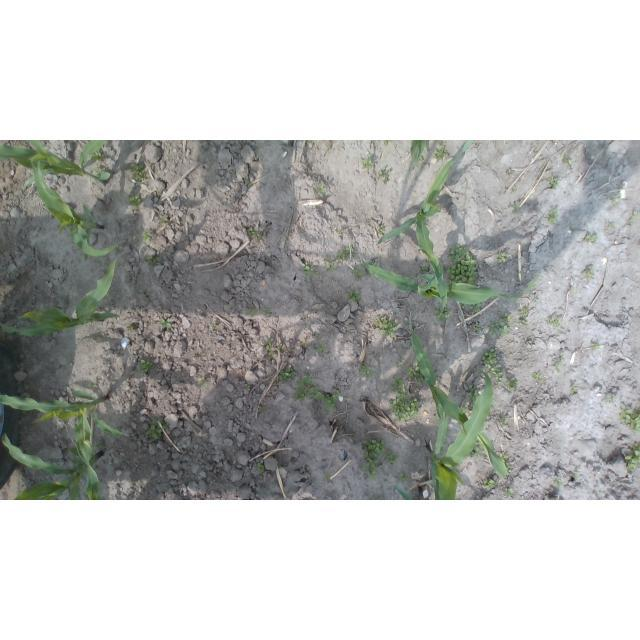Maize: (376, 141, 476, 318), (406, 311, 510, 479), (0, 388, 124, 499), (1, 253, 116, 335), (27, 161, 119, 260), (427, 370, 493, 500), (364, 260, 539, 305), (0, 433, 106, 500), (1, 140, 112, 192), (408, 141, 428, 168), (393, 485, 414, 500)
Weeds: (389, 376, 420, 422), (444, 244, 477, 287), (294, 373, 325, 403), (363, 440, 385, 479), (323, 246, 354, 273), (619, 403, 640, 435), (375, 316, 397, 339), (145, 419, 169, 440), (128, 160, 148, 182), (625, 443, 640, 472), (488, 320, 512, 338), (323, 389, 342, 411), (486, 364, 504, 386), (408, 366, 425, 383), (279, 366, 296, 383), (465, 385, 480, 404), (480, 348, 497, 364), (466, 440, 482, 456), (433, 307, 451, 321), (301, 262, 316, 277), (546, 209, 559, 226), (433, 146, 448, 160), (359, 156, 373, 171), (90, 150, 105, 164), (552, 354, 563, 373), (376, 169, 390, 183), (358, 363, 372, 377), (313, 183, 327, 197), (386, 451, 401, 464), (128, 193, 141, 207), (140, 359, 153, 373), (348, 288, 361, 302), (548, 316, 563, 328), (314, 344, 329, 356), (247, 227, 265, 237), (147, 255, 164, 265), (351, 266, 363, 280), (160, 319, 174, 330), (263, 337, 273, 352), (482, 478, 494, 490), (71, 457, 83, 468), (508, 377, 519, 389), (142, 231, 153, 242), (461, 404, 471, 416), (585, 234, 598, 242), (496, 252, 506, 262), (470, 302, 480, 312), (197, 377, 207, 387), (586, 268, 595, 279), (532, 372, 543, 381), (500, 452, 509, 463), (550, 176, 558, 188), (562, 156, 572, 165), (503, 313, 513, 322), (400, 474, 409, 484), (518, 308, 529, 316), (418, 152, 425, 164), (258, 460, 265, 472), (93, 169, 105, 176), (246, 309, 256, 317), (514, 202, 521, 213), (422, 264, 429, 275), (607, 220, 616, 228), (473, 323, 481, 332), (360, 260, 368, 269), (268, 352, 276, 361), (501, 417, 508, 427), (323, 474, 333, 481), (88, 383, 98, 390), (591, 341, 599, 349), (505, 488, 513, 496), (570, 385, 578, 393), (276, 344, 284, 352), (95, 440, 102, 449), (554, 479, 563, 486), (159, 218, 168, 225), (519, 320, 528, 327), (505, 463, 511, 473), (264, 308, 272, 315), (364, 270, 372, 277), (211, 320, 216, 330), (572, 472, 577, 482), (338, 228, 345, 235), (378, 225, 385, 232), (370, 260, 377, 267), (434, 413, 440, 420), (607, 395, 613, 402), (257, 408, 265, 413), (384, 140, 392, 145), (437, 140, 447, 144), (567, 286, 573, 292), (595, 492, 602, 497), (612, 198, 617, 205), (244, 384, 252, 388), (398, 361, 403, 367), (633, 213, 639, 218), (628, 221, 633, 227), (520, 270, 525, 275), (244, 180, 249, 185), (127, 326, 133, 330), (460, 303, 464, 309), (371, 497, 378, 500), (528, 340, 533, 344), (304, 140, 313, 142)
